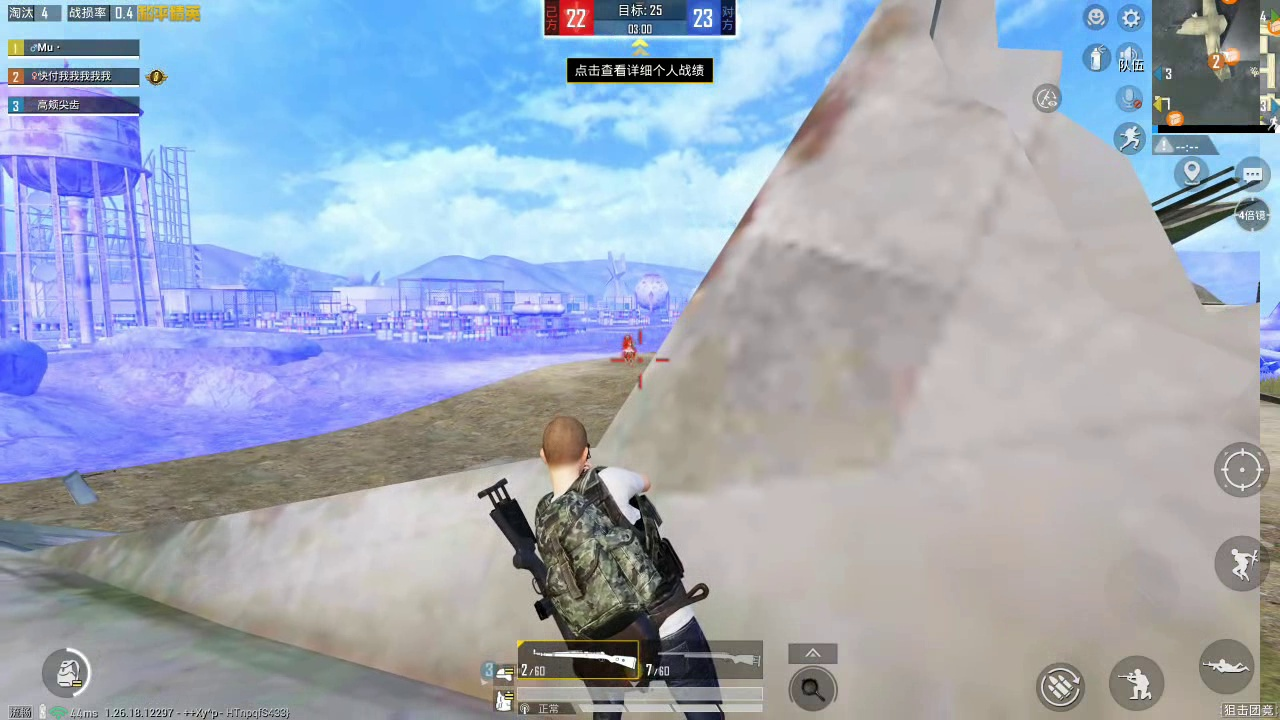enemy: (620, 333, 638, 365)
